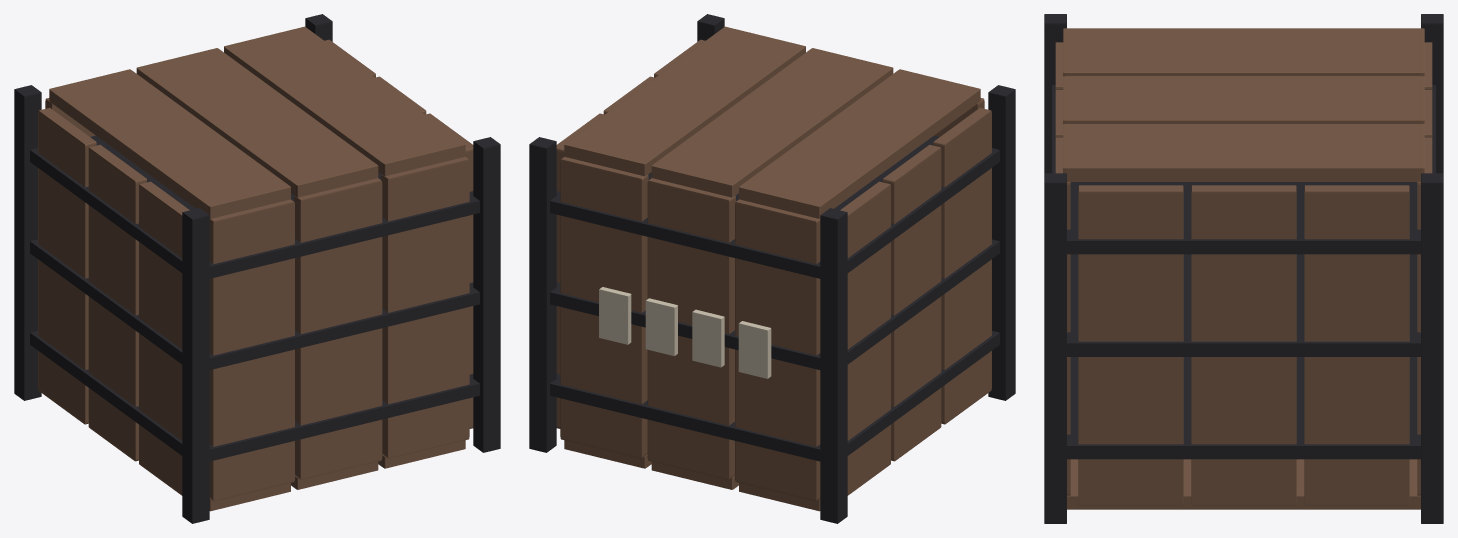
The model's file is obstacle_crate.obj.
3 views of the same model, side by side, from view 1: azimuth 30°, elevation 25°; view 2: azimuth 150°, elevation 25°; view 3: azimuth 270°, elevation 25° (orthographic). The views are drawn at different scales.
Visible parts, largest first — view 1: ObstacleCrate; view 2: ObstacleCrate; view 3: ObstacleCrate.
Boxes of the visible parts, bbox=[...] form: ObstacleCrate: bbox=[14, 14, 500, 523]; ObstacleCrate: bbox=[529, 14, 1015, 523]; ObstacleCrate: bbox=[1044, 14, 1443, 523].
Size of the model in its own units: 1.06 by 1 by 1.06.
